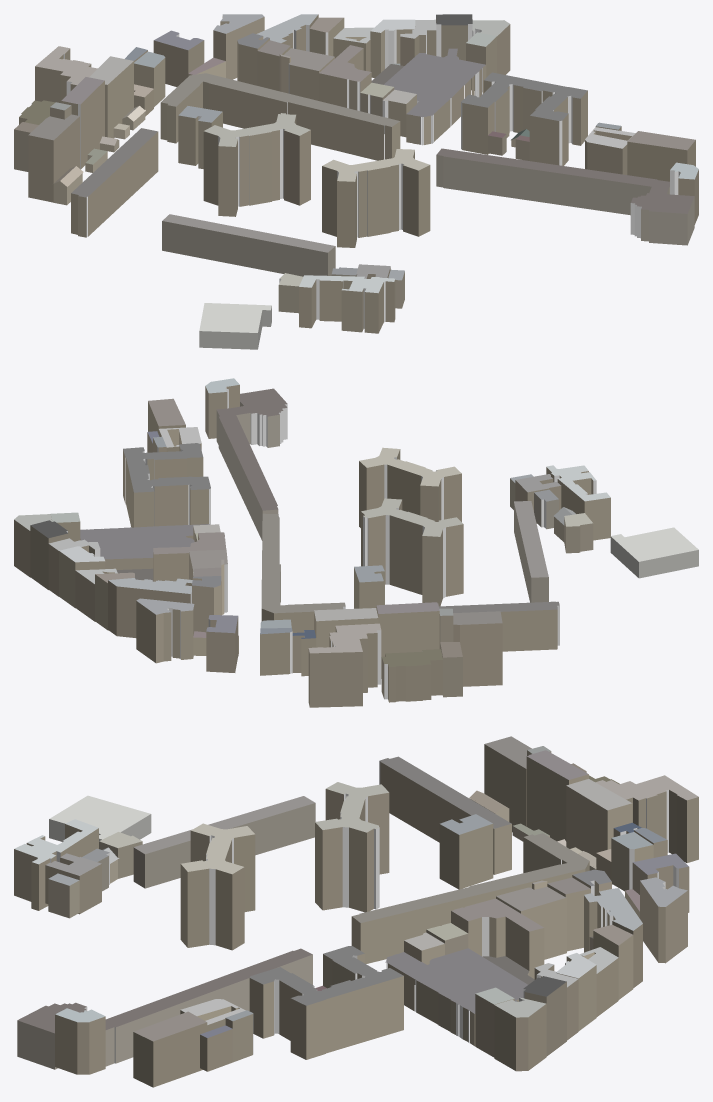
The picture shows the model from 3 angles, top to bottom: view 1: azimuth 30°, elevation 25°; view 2: azimuth 150°, elevation 25°; view 3: azimuth 270°, elevation 25°; orthographic projection. The views are drawn at different scales.
Visible parts, largest first — view 1: tuile; view 2: tuile; view 3: tuile.
Part boxes in pixels (x1,y1,x2,y2): tuile: (14, 14, 698, 349); tuile: (14, 378, 698, 707); tuile: (14, 736, 698, 1087).
Size of the model in its own units: 284 by 46.88 by 279.
